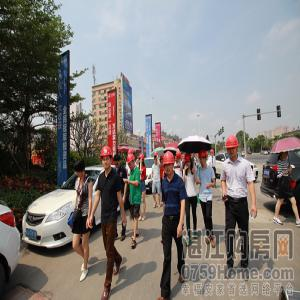none: (74, 158, 86, 180), (114, 154, 122, 169), (155, 156, 159, 166)
red: (226, 134, 240, 160), (101, 146, 114, 171), (164, 152, 176, 176), (128, 155, 137, 172), (200, 150, 209, 166), (185, 154, 193, 171), (139, 153, 145, 166), (160, 157, 165, 166), (211, 149, 215, 157)
